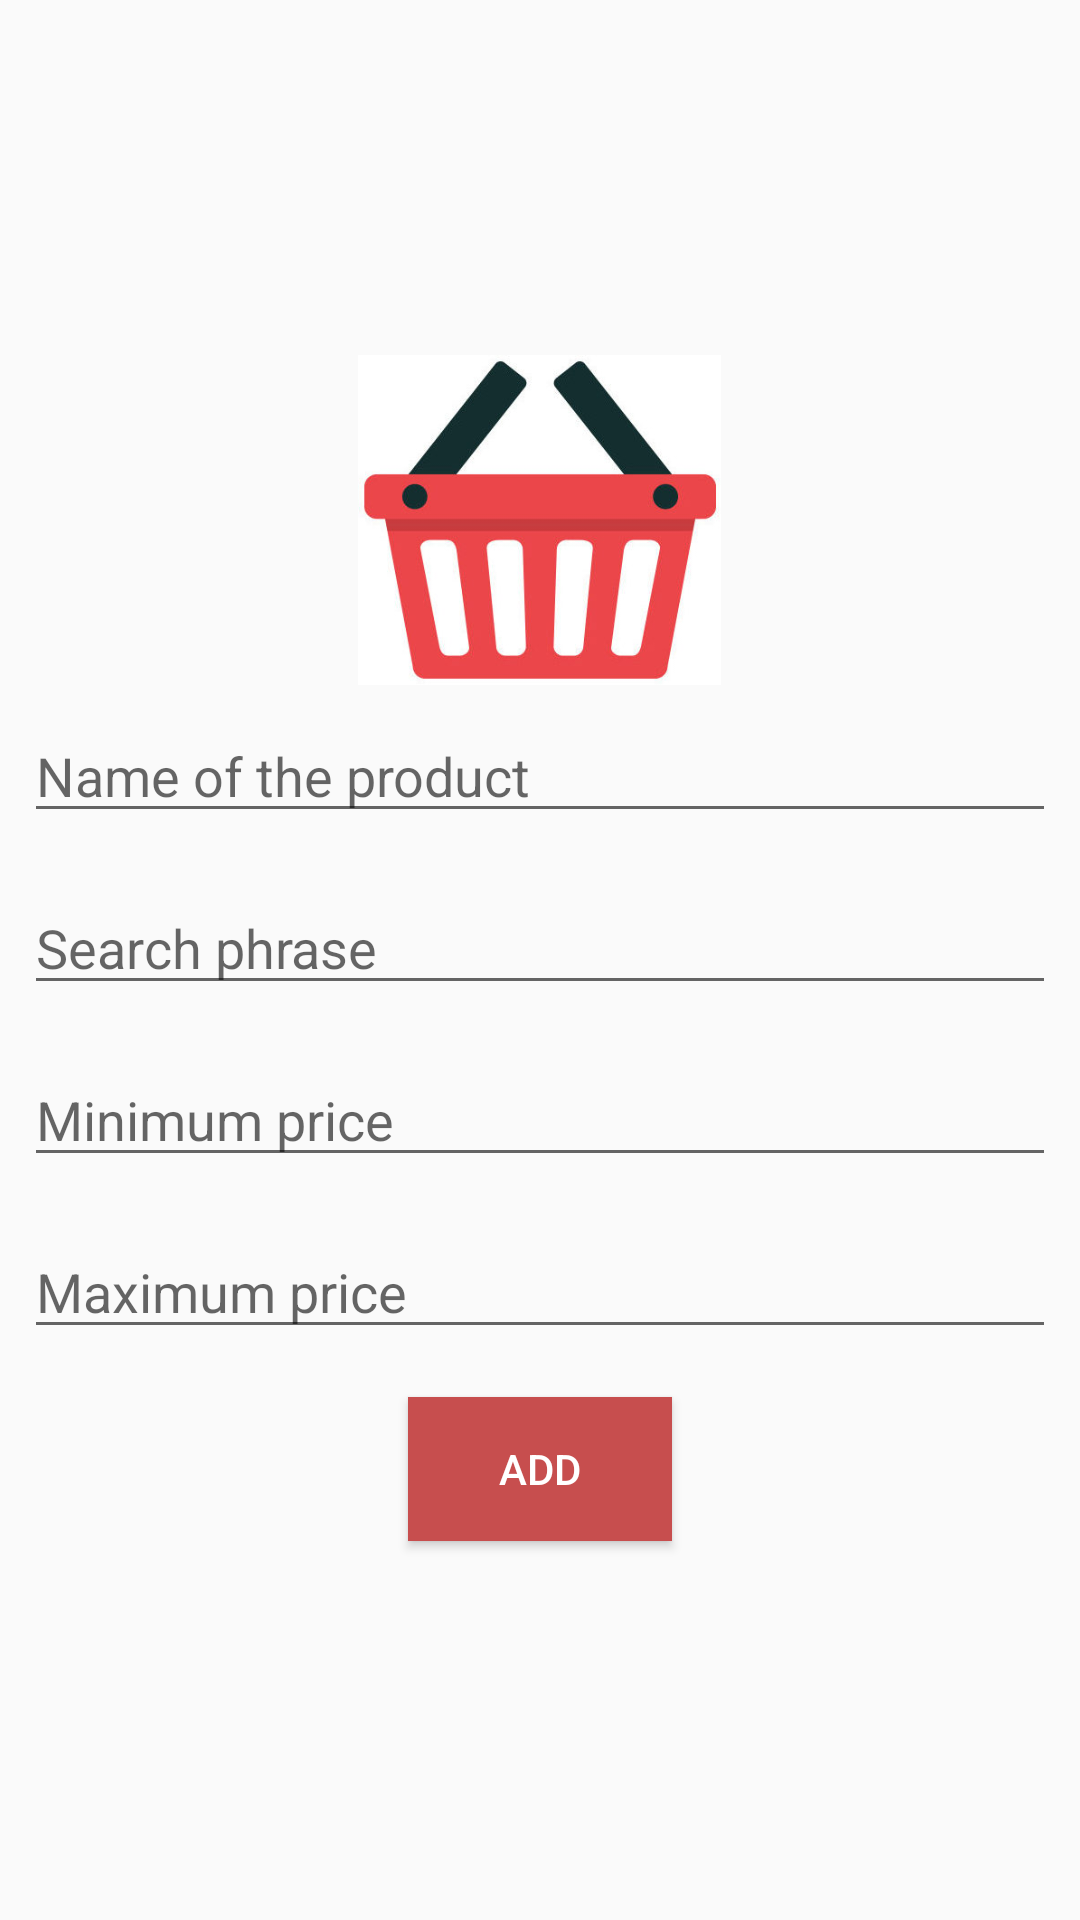

Where to tap for icons on this 1080w x 1920h app screen, as [x,y]:
shopping bag: [540,520]
